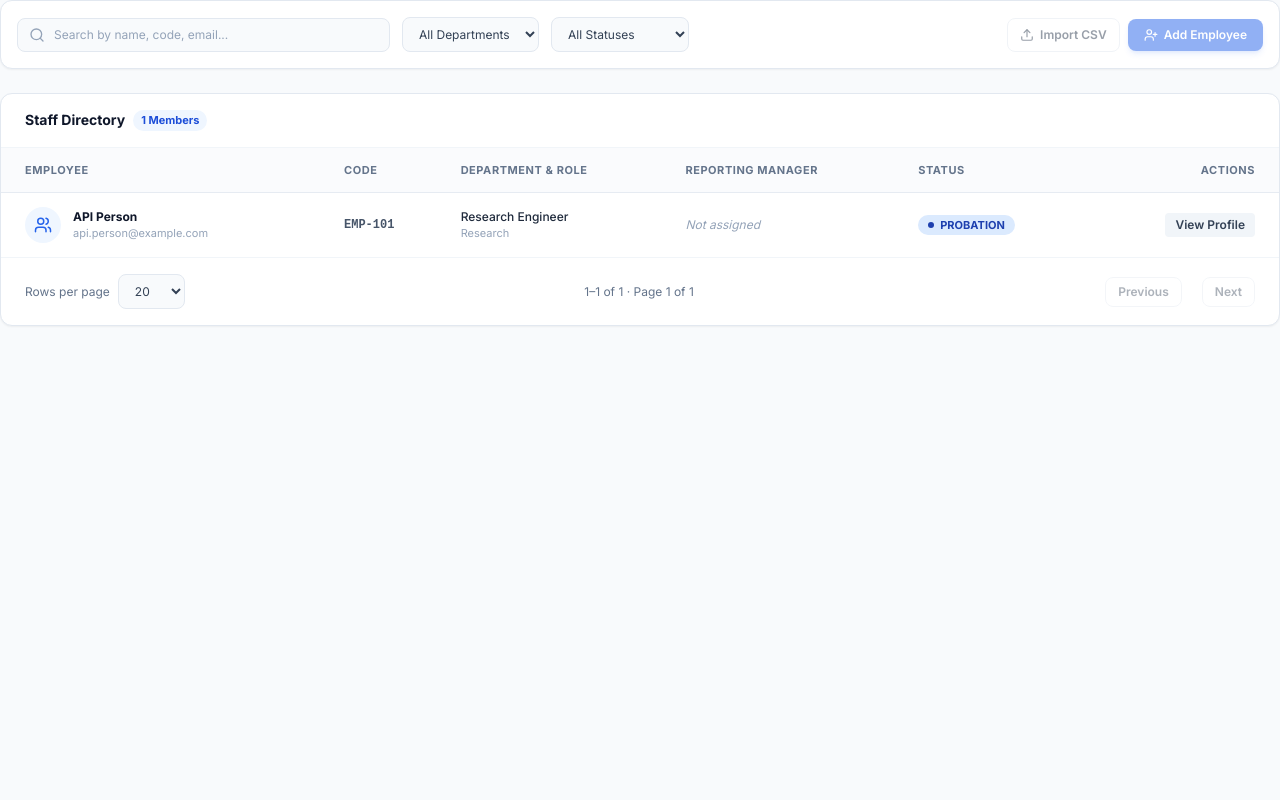
Scenario: Real read-only Employees directory › does not offer editing to an employee without update permission
The image size is (1280, 800).
Check: the text "API Person" is shown, box [73,209,137,224]
Click the button with aria-label "View profile for API Person" at coordinates (1210, 225), box [1166,213,1255,237]
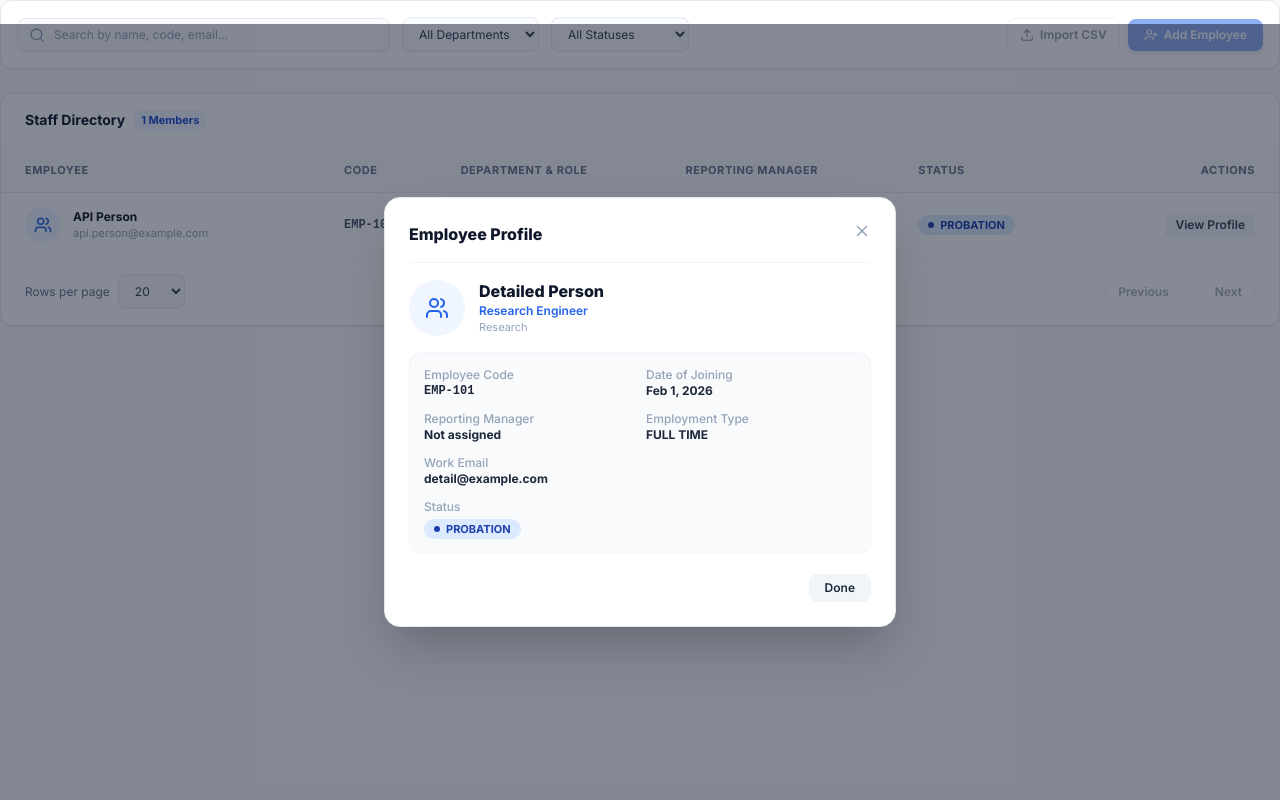
Check: the heading "Detailed Person" is shown, box [479,279,604,303]
